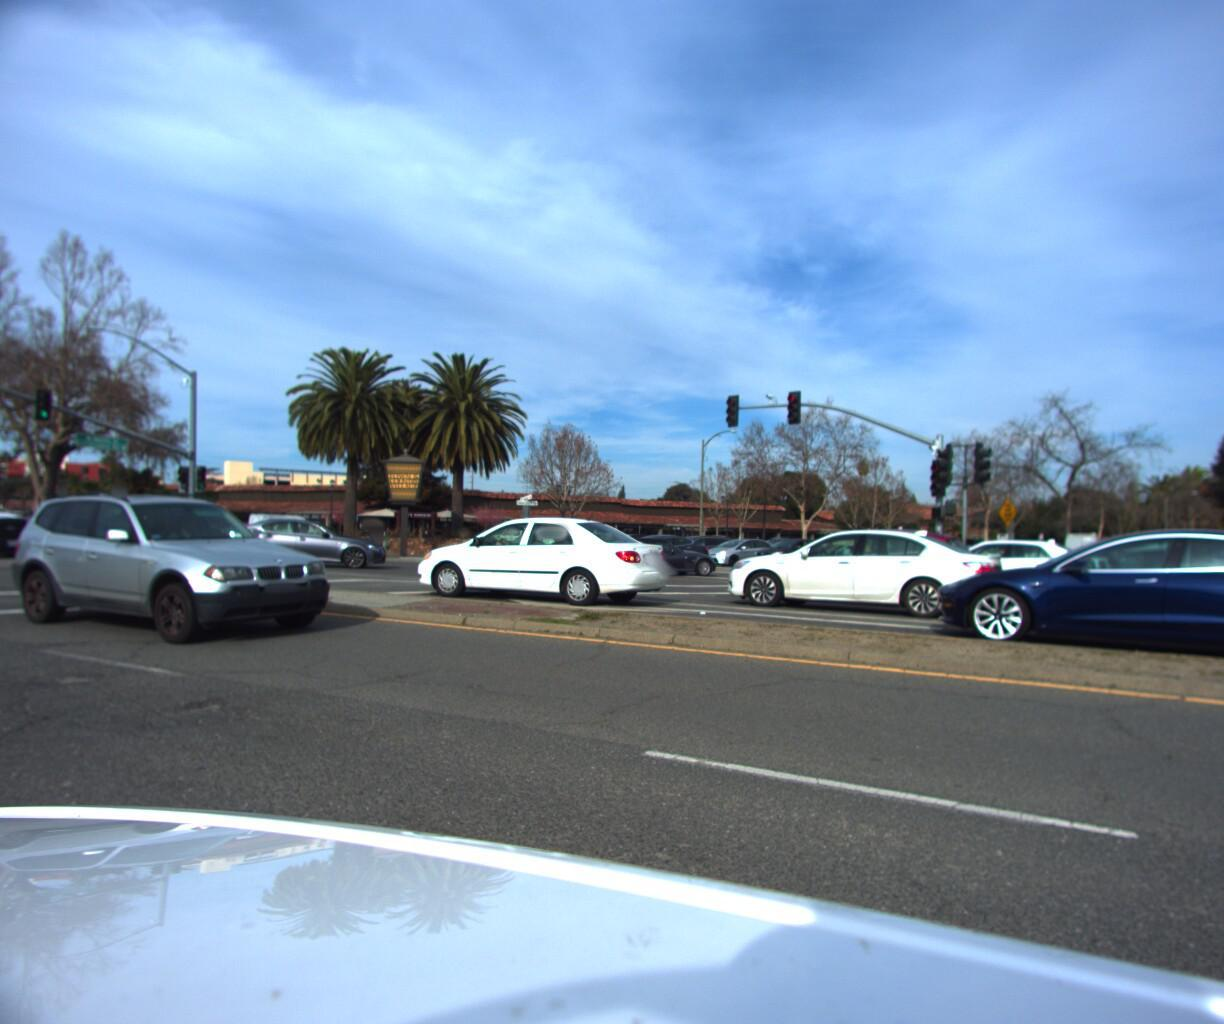car: (0, 489, 352, 655), (940, 521, 1224, 674), (700, 520, 1031, 631), (405, 514, 677, 610), (864, 528, 1128, 622), (742, 523, 981, 609), (1153, 525, 1224, 681), (212, 516, 382, 566), (585, 530, 721, 573), (597, 535, 720, 576), (0, 490, 50, 565), (737, 535, 845, 569), (686, 534, 780, 569)
